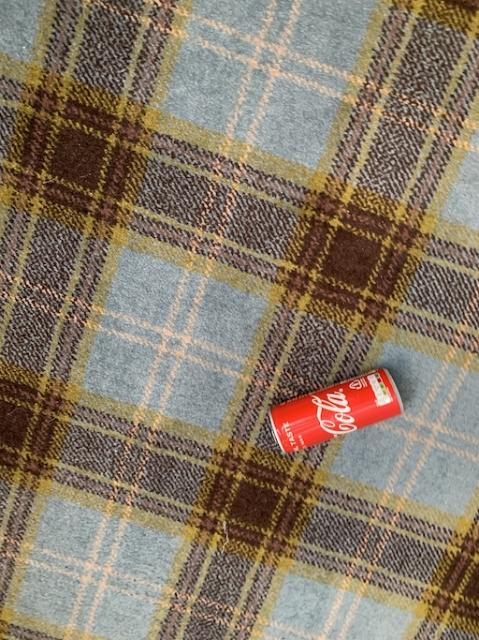metal: (270, 367, 402, 451)
